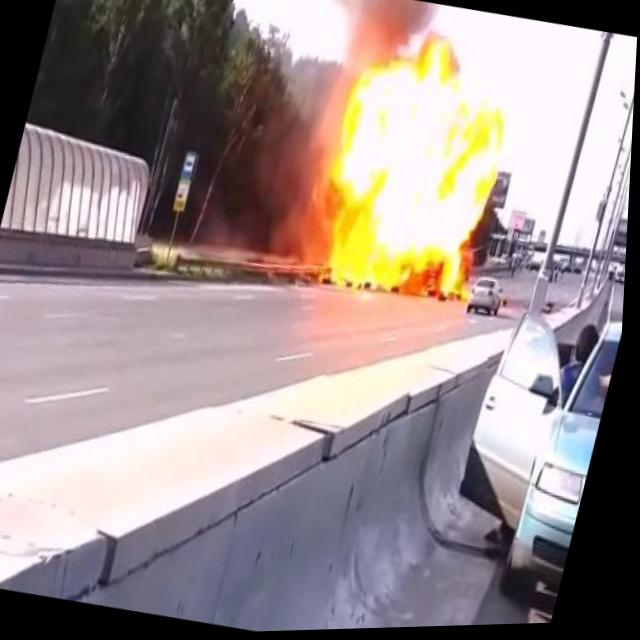fire: (297, 4, 536, 321)
